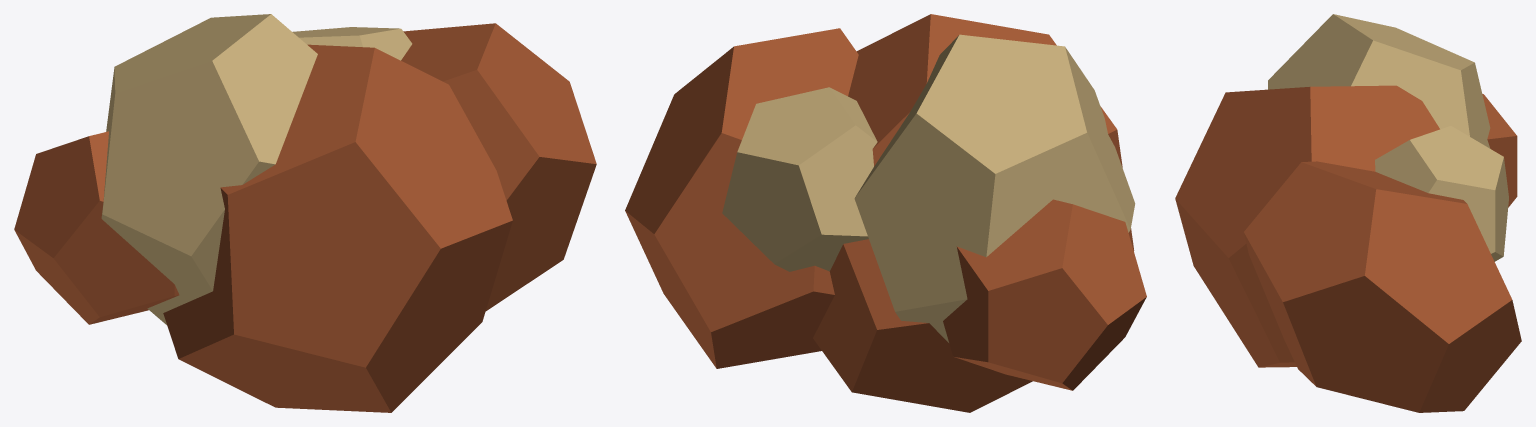
File: canyon_strata.glb
The picture shows the model from 3 angles, left to right: view 1: azimuth 30°, elevation 25°; view 2: azimuth 150°, elevation 25°; view 3: azimuth 270°, elevation 25°; orthographic projection. The views are drawn at different scales.
Parts seen in each view (by area): view 1: rock_2, rock_1, rock_4, rock_0, rock_3; view 2: rock_1, rock_4, rock_0, rock_2, rock_3; view 3: rock_4, rock_2, rock_1, rock_3, rock_0.
Boxes of the visible parts, x1,y1,x2,y2 form: rock_2: [163, 44, 512, 412]; rock_1: [101, 14, 317, 325]; rock_4: [401, 23, 596, 310]; rock_0: [14, 131, 179, 324]; rock_3: [292, 27, 412, 60]; rock_1: [854, 34, 1135, 342]; rock_4: [625, 28, 858, 368]; rock_0: [943, 199, 1146, 390]; rock_2: [813, 14, 1134, 412]; rock_3: [722, 87, 877, 271]; rock_4: [1244, 161, 1521, 412]; rock_2: [1175, 85, 1439, 367]; rock_1: [1268, 14, 1490, 148]; rock_3: [1375, 126, 1508, 261]; rock_0: [1482, 94, 1517, 207].
Size of what is drawn, in the model's own units: 2.86 by 2.13 by 2.05.
